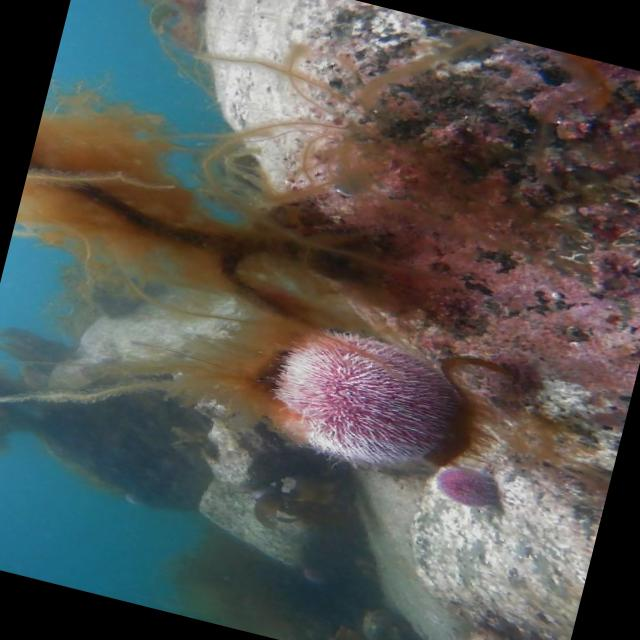Deniz Kestanesi: (240, 309, 471, 494), (431, 460, 504, 512), (250, 480, 280, 504), (300, 566, 332, 584), (122, 490, 142, 504)
